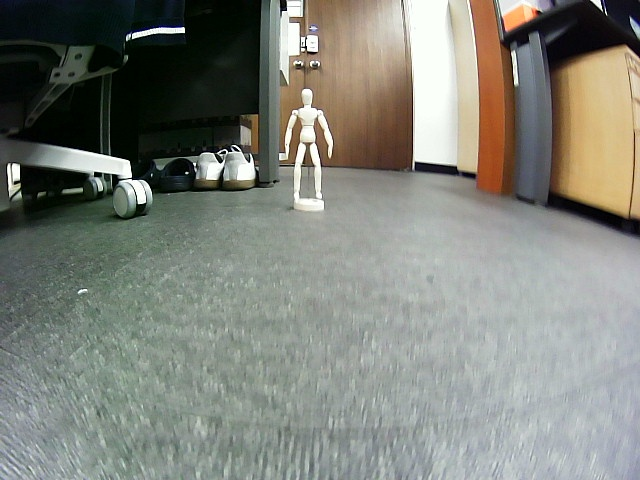person: (284, 88, 335, 202)
